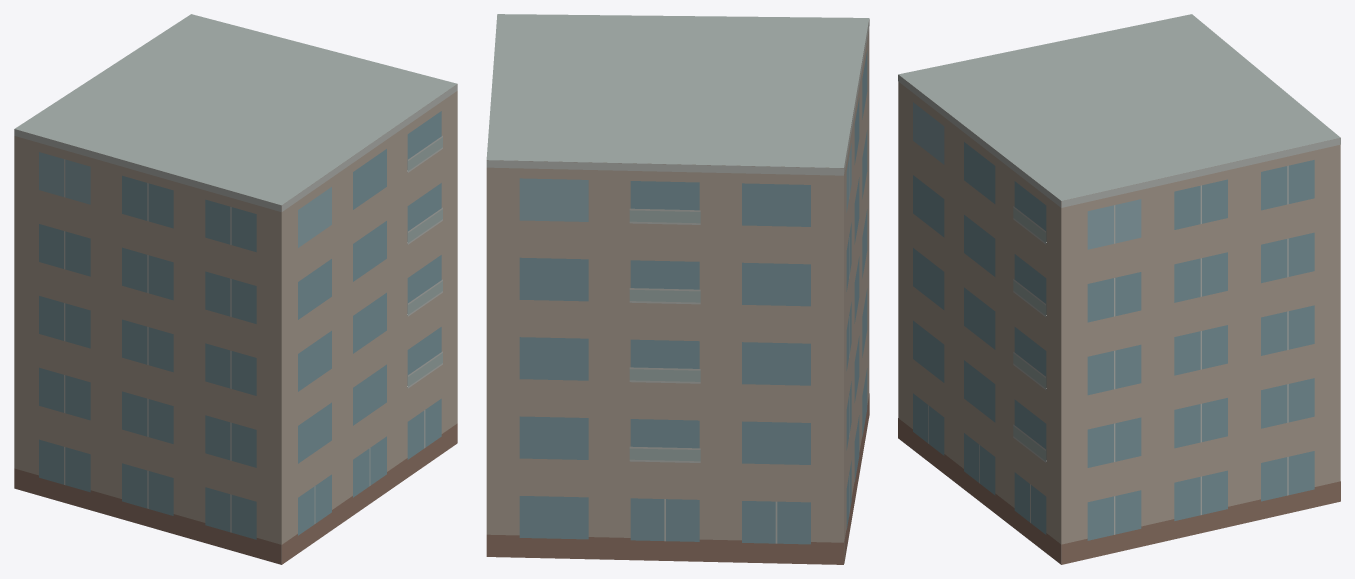
The model's file is survey-upis-32957332.glb.
The picture shows the model from 3 angles, left to right: view 1: azimuth 30°, elevation 25°; view 2: azimuth 150°, elevation 25°; view 3: azimuth 270°, elevation 25°; orthographic projection. The views are drawn at different scales.
Parts seen in each view (by area): view 1: survey-upis-32957332.tmp; view 2: survey-upis-32957332.tmp; view 3: survey-upis-32957332.tmp.
Part boxes in pixels (x1,y1,x2,y2): survey-upis-32957332.tmp: (14,14,457,564); survey-upis-32957332.tmp: (486,14,869,564); survey-upis-32957332.tmp: (898,14,1340,564).
Bounding box in the file's own units: 14.09 × 12.77 × 14.09.
